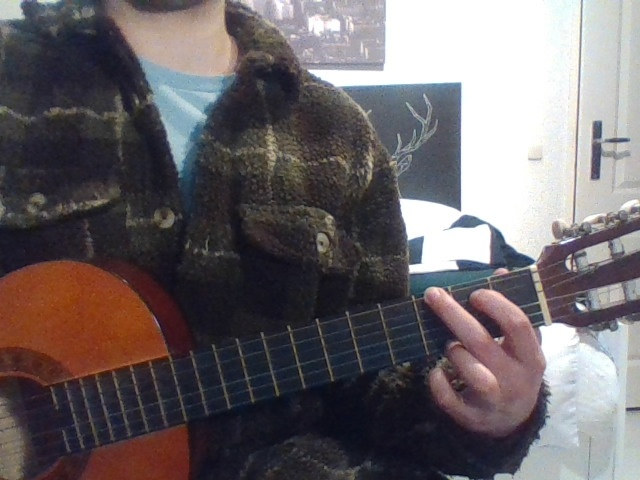G: (397, 268, 589, 451)
